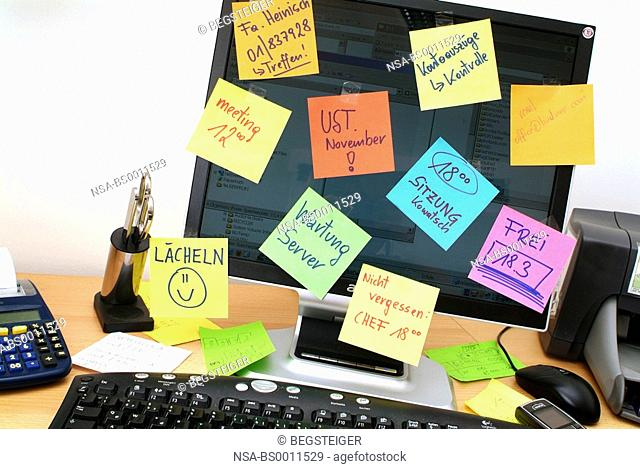Note: (257, 190, 372, 299), (467, 206, 576, 316), (387, 140, 496, 249), (338, 264, 442, 370), (187, 77, 285, 186), (307, 90, 397, 179), (508, 82, 598, 168), (230, 2, 321, 77), (150, 235, 230, 317), (70, 332, 190, 373), (425, 342, 525, 381), (199, 326, 275, 375), (467, 380, 538, 424)
